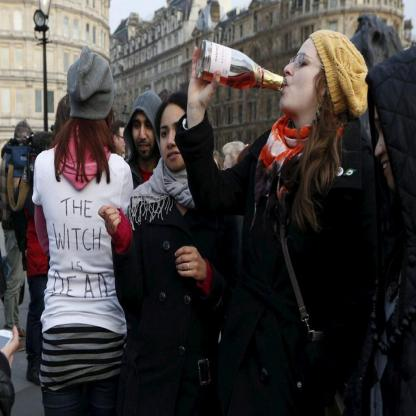face: (280, 45, 319, 108), (375, 111, 402, 190), (160, 114, 190, 172), (133, 116, 155, 159), (224, 162, 238, 191), (118, 132, 127, 152)
